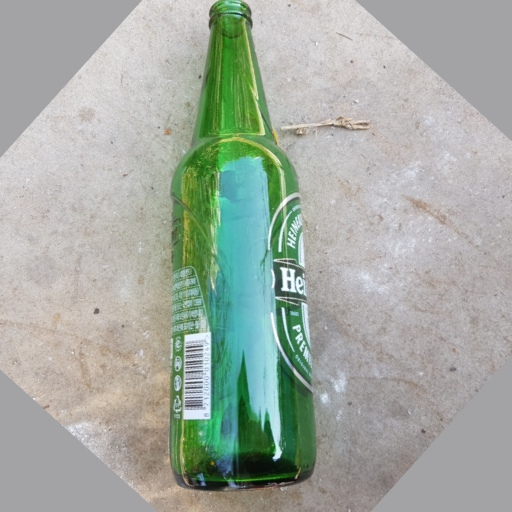Glass_1: (161, 5, 322, 495)
